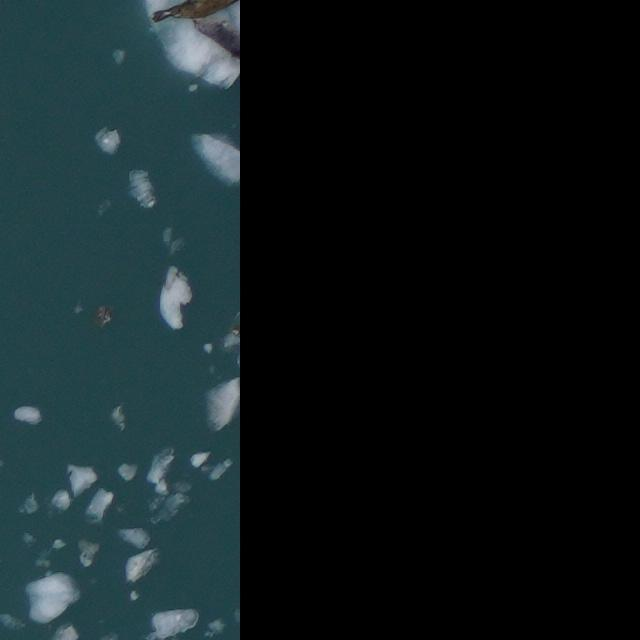seal: (195, 7, 252, 66)
